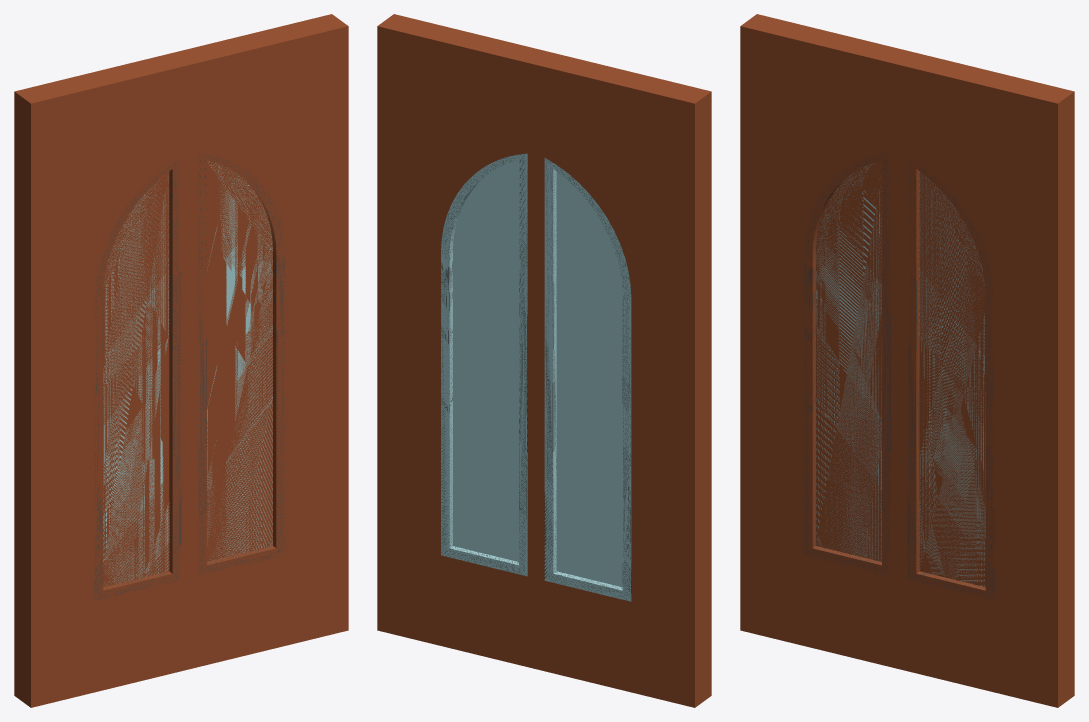
Rendered from wall_window_tall_1.fbx.
The picture shows the model from 3 angles, left to right: view 1: azimuth 30°, elevation 25°; view 2: azimuth 150°, elevation 25°; view 3: azimuth 330°, elevation 25°; orthographic projection.
Visible parts, largest first — view 1: Mesh1_Model; view 2: Mesh1_Model; view 3: Mesh1_Model.
Boxes of the visible parts, x1,y1,x2,y2 form: Mesh1_Model: [14, 14, 348, 707]; Mesh1_Model: [377, 14, 711, 707]; Mesh1_Model: [740, 14, 1074, 707].
Size of the model in its own units: 1.1 by 2 by 0.1.
